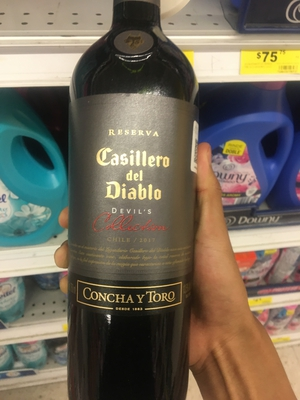casillero del diablo devils collection rojo: (67, 13, 202, 400)
